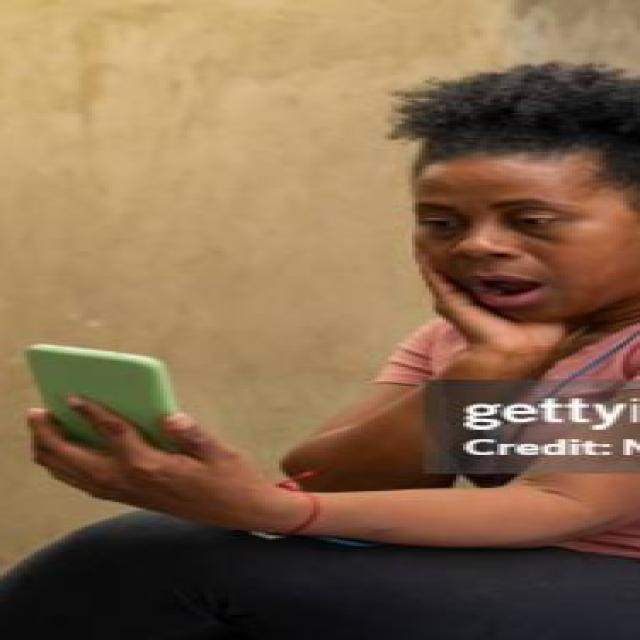mobile_phone: (24, 334, 206, 473)
